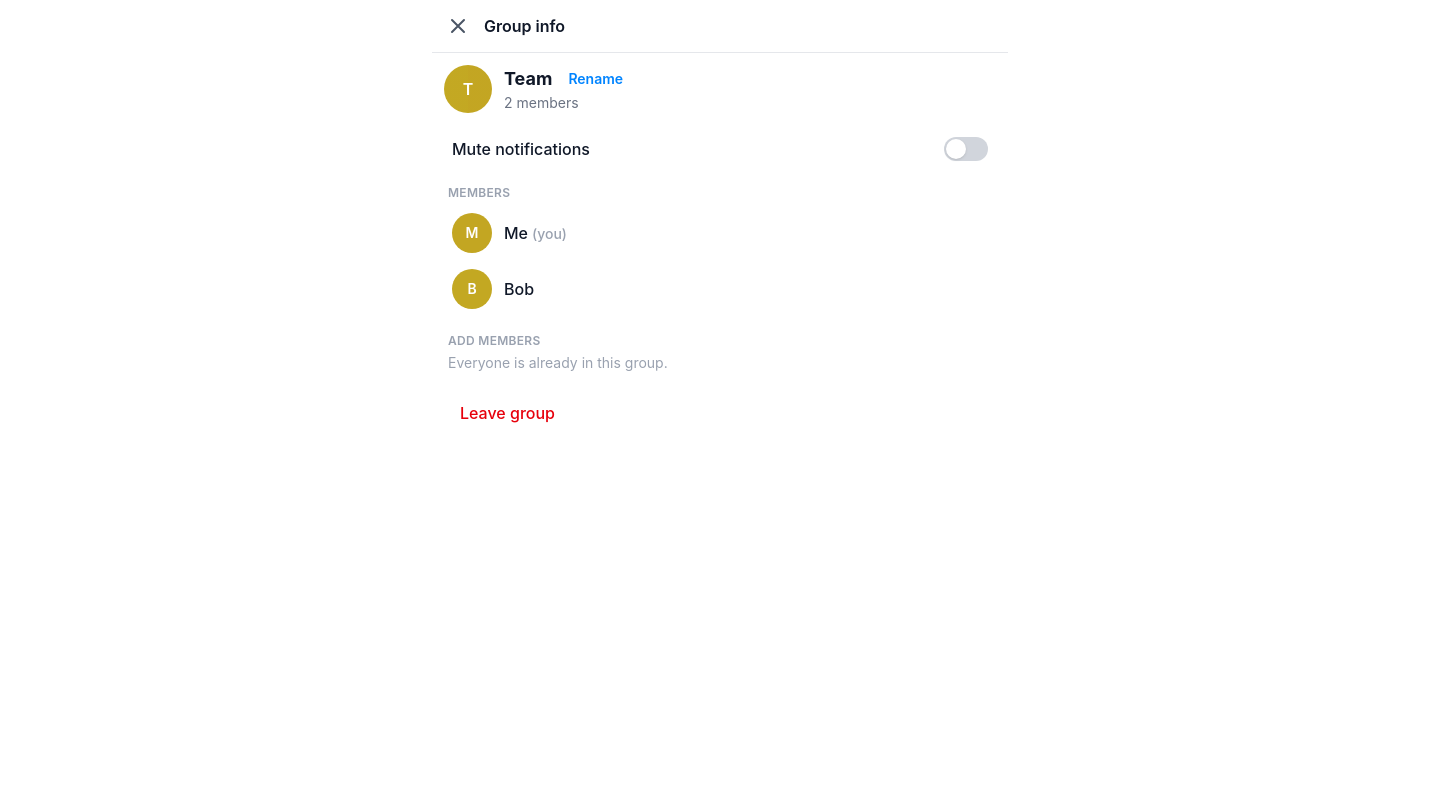
Test: GroupInfo — mute toggle › reverts and shows an error when the request fails
Click the switch named "Mute notifications" at {"x": 966, "y": 149}, box [944, 137, 988, 161]
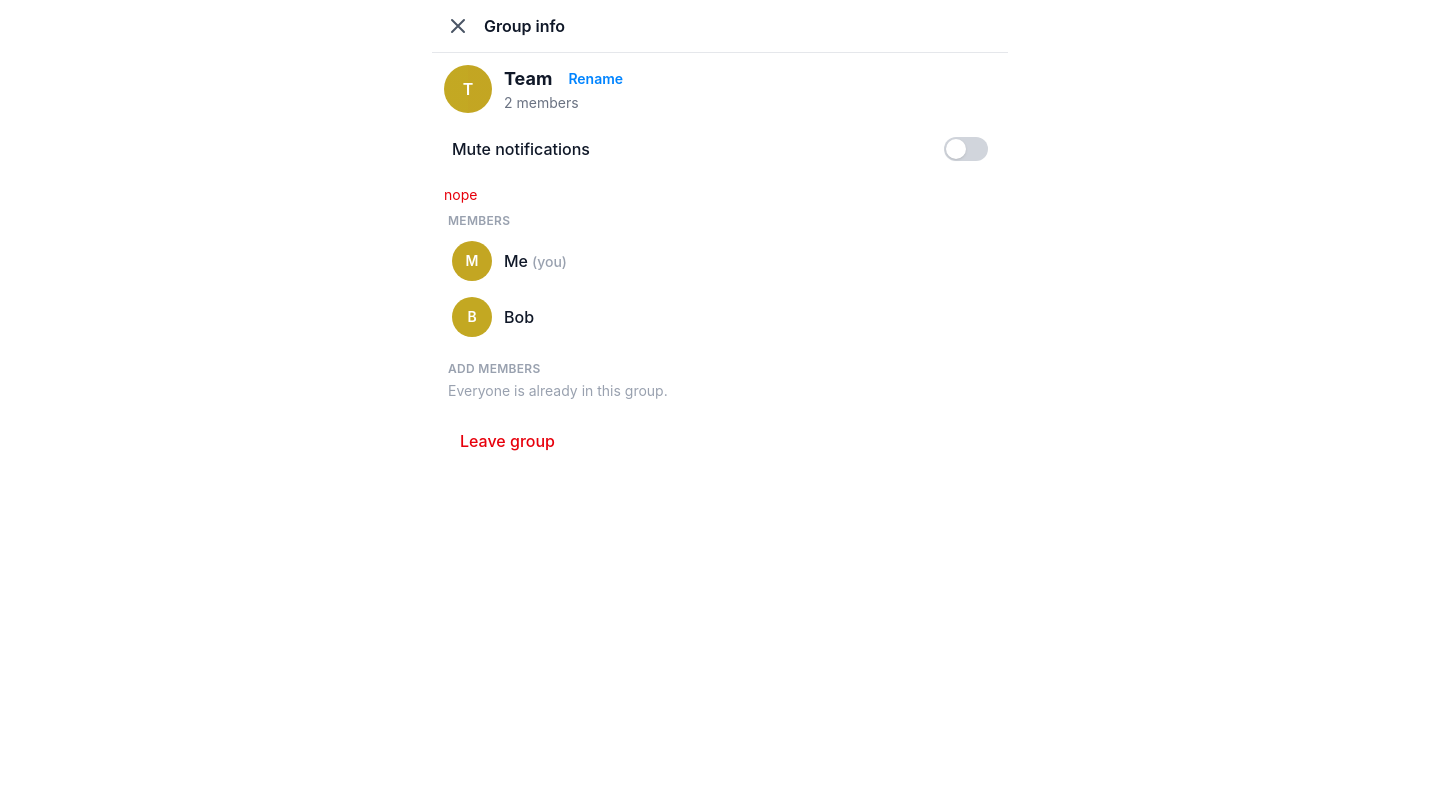
Now the text "nope" is shown, box [444, 186, 477, 203]
